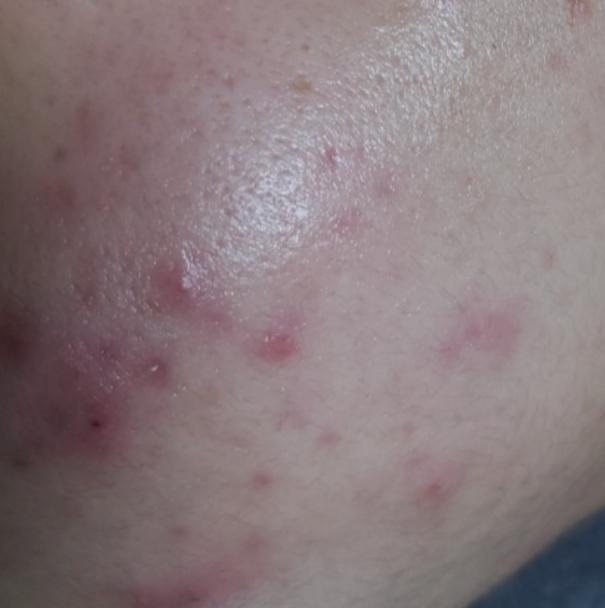cystic: (124, 232, 258, 333), (39, 325, 137, 459)
